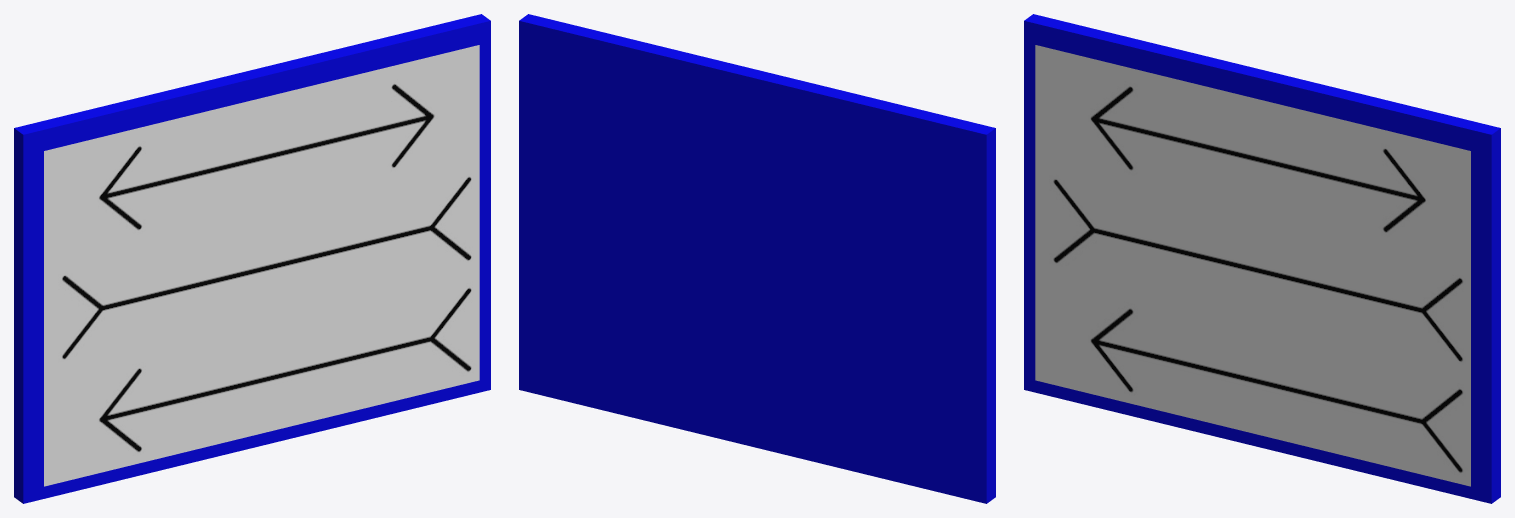
3 views of the same model, side by side, from view 1: azimuth 30°, elevation 25°; view 2: azimuth 150°, elevation 25°; view 3: azimuth 330°, elevation 25° (orthographic).
Parts seen in each view (by area): view 1: PhotoPlane, PhotoBorder; view 2: PhotoBorder; view 3: PhotoPlane, PhotoBorder.
Part boxes in pixels (<box>): PhotoPlane: <box>44,45,479,486</box>; PhotoBorder: <box>14,14,490,503</box>; PhotoBorder: <box>519,14,995,503</box>; PhotoPlane: <box>1035,45,1470,486</box>; PhotoBorder: <box>1024,14,1500,503</box>.
Size of the model in its own units: 14.58 by 11 by 0.75.
2 materials, 1 textured.
